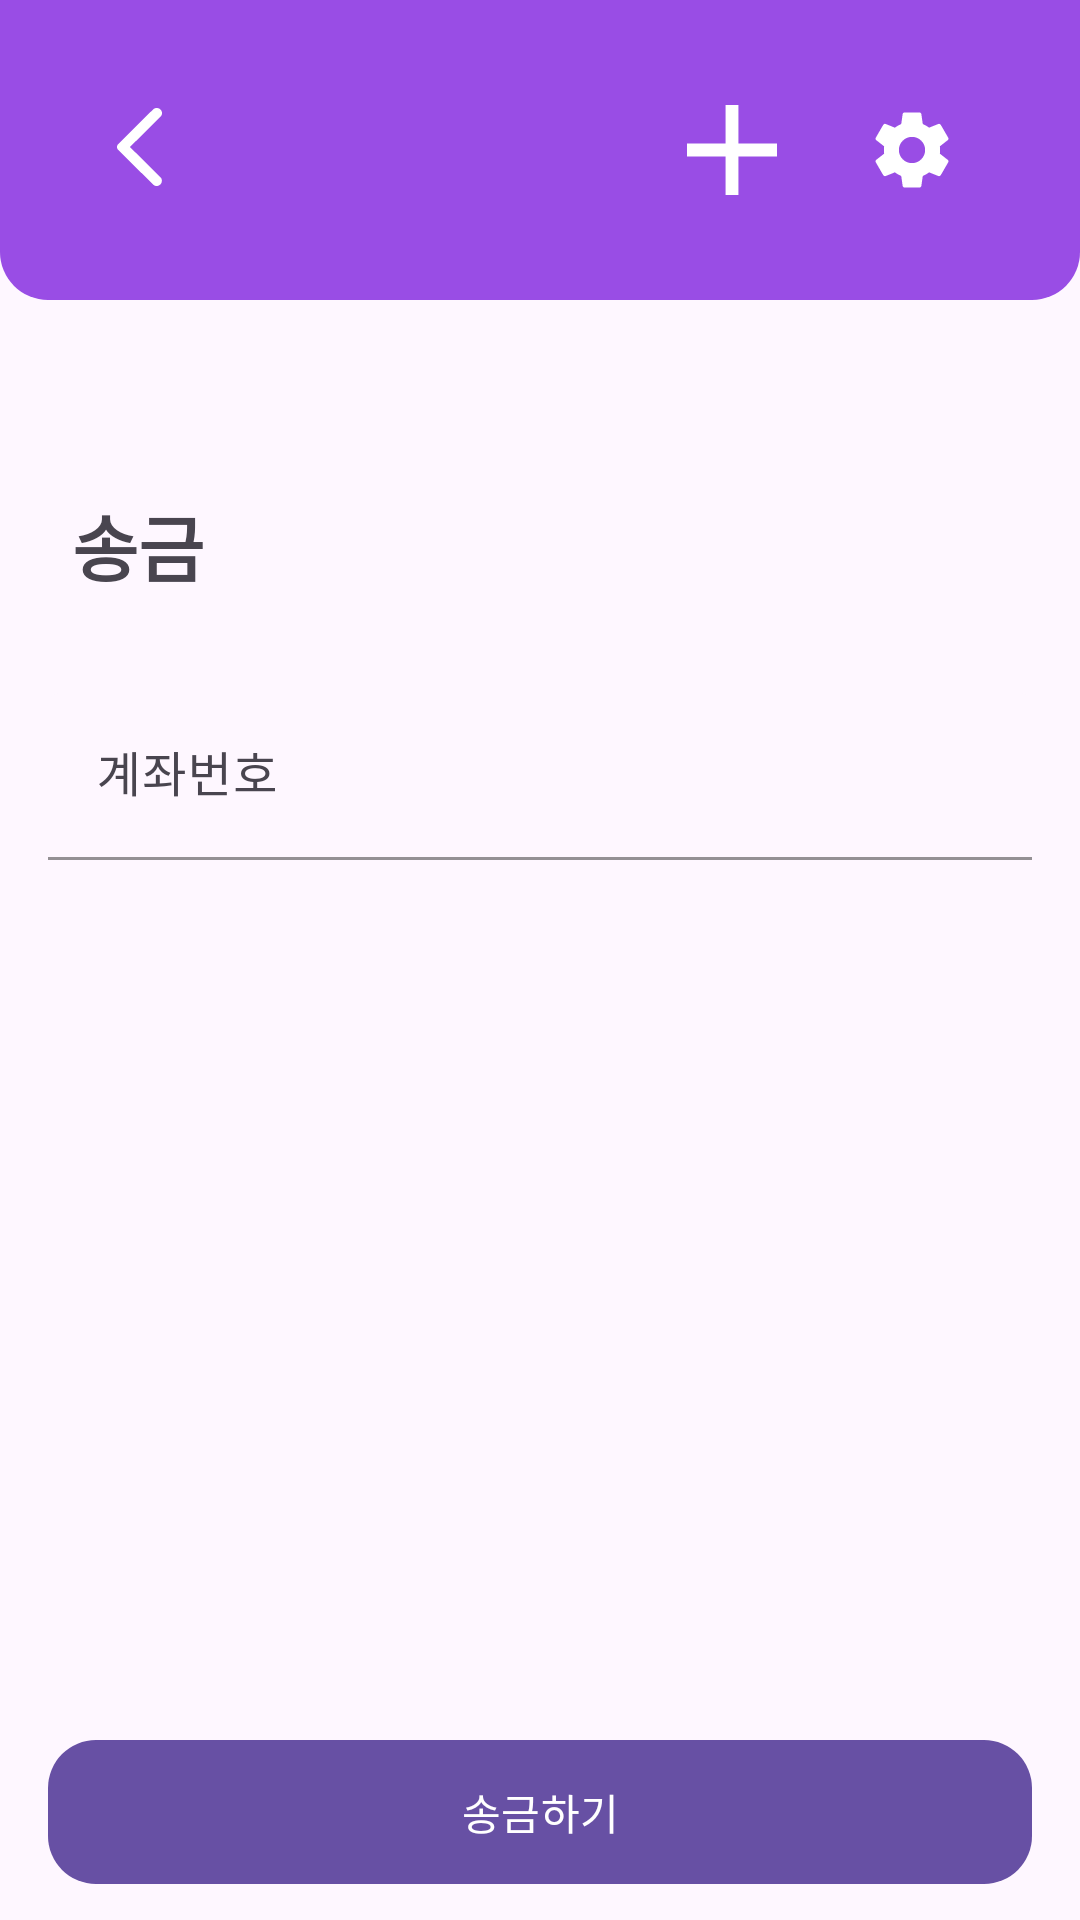

Screen size 1080*1920. Icon name, then its box in pixels as (x1, y1, x2, y2):
add: (687, 105, 777, 195)
back: (117, 108, 162, 186)
setting: (875, 112, 949, 188)
